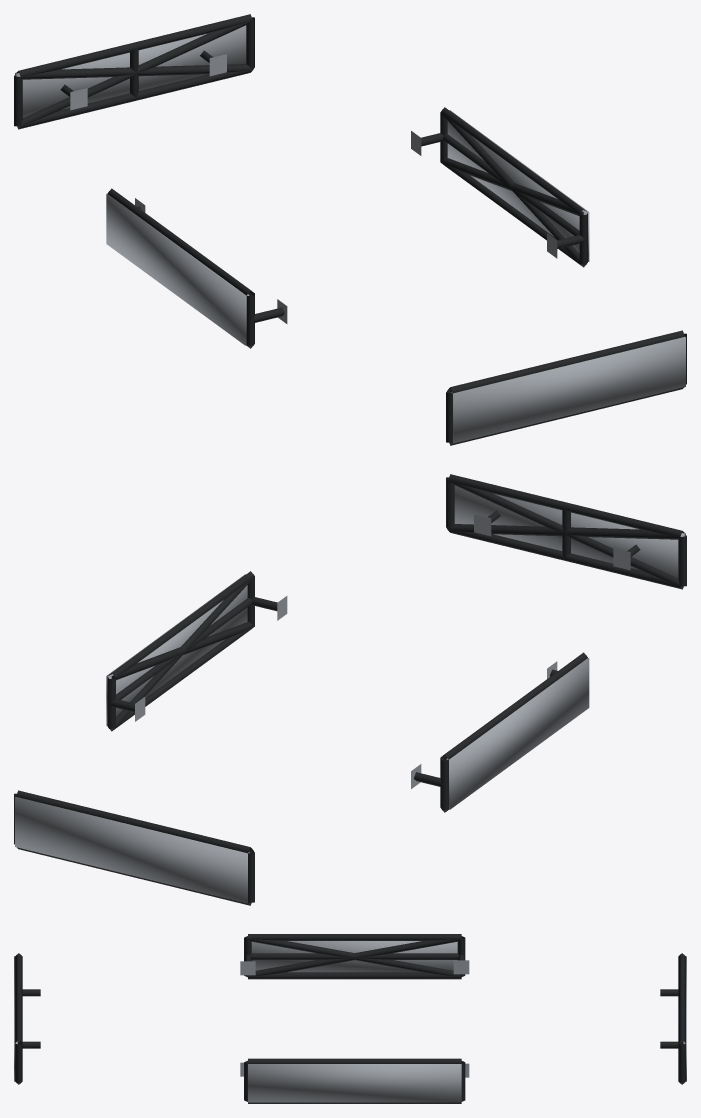
Rendered from kanaya_aureo_protecao.glb.
3 renders of one model, top to bottom at view 1: azimuth 30°, elevation 25°; view 2: azimuth 150°, elevation 25°; view 3: azimuth 270°, elevation 25°, orthographic. The views are drawn at different scales.
Visible parts, largest first — view 1: Protection_front_Level3_Details, Protection_left_Level3_Details, Protection_rear_Level1_Details, Protection_rear_Level3_Details, Protection_rear_Level2_Details, Protection_right_Level1_Details, Protection_right_Level2_Details, Protection_right_Level3_Details, Protection_front_Level1_Details, Protection_left_Level1_Details; view 2: Protection_rear_Level3_Details, Protection_left_Level3_Details, Protection_front_Level1_Details, Protection_front_Level3_Details, Protection_front_Level2_Details, Protection_right_Level1_Details, Protection_right_Level2_Details, Protection_right_Level3_Details, Protection_rear_Level1_Details, Protection_left_Level1_Details; view 3: Protection_right_Level3_Details, Protection_left_Level1_Details, Protection_left_Level2_Details, Protection_left_Level3_Details, Protection_right_Level1_Details, Protection_rear_Level1_Details, Protection_front_Level1_Details.
Part boxes in pixels (x1,y1,x2,y2): Protection_front_Level3_Details: (451, 337, 685, 443); Protection_left_Level3_Details: (106, 194, 249, 345); Protection_rear_Level1_Details: (14, 14, 254, 129); Protection_rear_Level3_Details: (15, 25, 246, 117); Protection_rear_Level2_Details: (16, 20, 252, 128); Protection_right_Level1_Details: (411, 107, 587, 267); Protection_right_Level2_Details: (440, 113, 586, 266); Protection_right_Level3_Details: (447, 110, 589, 261); Protection_front_Level1_Details: (446, 330, 686, 445); Protection_left_Level1_Details: (107, 188, 287, 348); Protection_rear_Level3_Details: (15, 797, 249, 903); Protection_left_Level3_Details: (446, 658, 589, 809); Protection_front_Level1_Details: (446, 474, 686, 589); Protection_front_Level3_Details: (454, 485, 685, 577); Protection_front_Level2_Details: (448, 480, 684, 588); Protection_right_Level1_Details: (107, 571, 287, 731); Protection_right_Level2_Details: (108, 577, 254, 730); Protection_right_Level3_Details: (106, 574, 247, 725); Protection_rear_Level1_Details: (14, 790, 254, 905); Protection_left_Level1_Details: (411, 652, 587, 812); Protection_right_Level3_Details: (248, 1064, 461, 1102); Protection_left_Level1_Details: (240, 934, 469, 979); Protection_left_Level2_Details: (247, 936, 461, 977); Protection_left_Level3_Details: (251, 941, 457, 972); Protection_right_Level1_Details: (240, 1058, 469, 1103); Protection_rear_Level1_Details: (660, 953, 685, 1084); Protection_front_Level1_Details: (15, 953, 40, 1084).
Bounding box in the file's own units: 2.17 × 0.354 × 4.79.
Materials: 1 (1 with a texture image).
